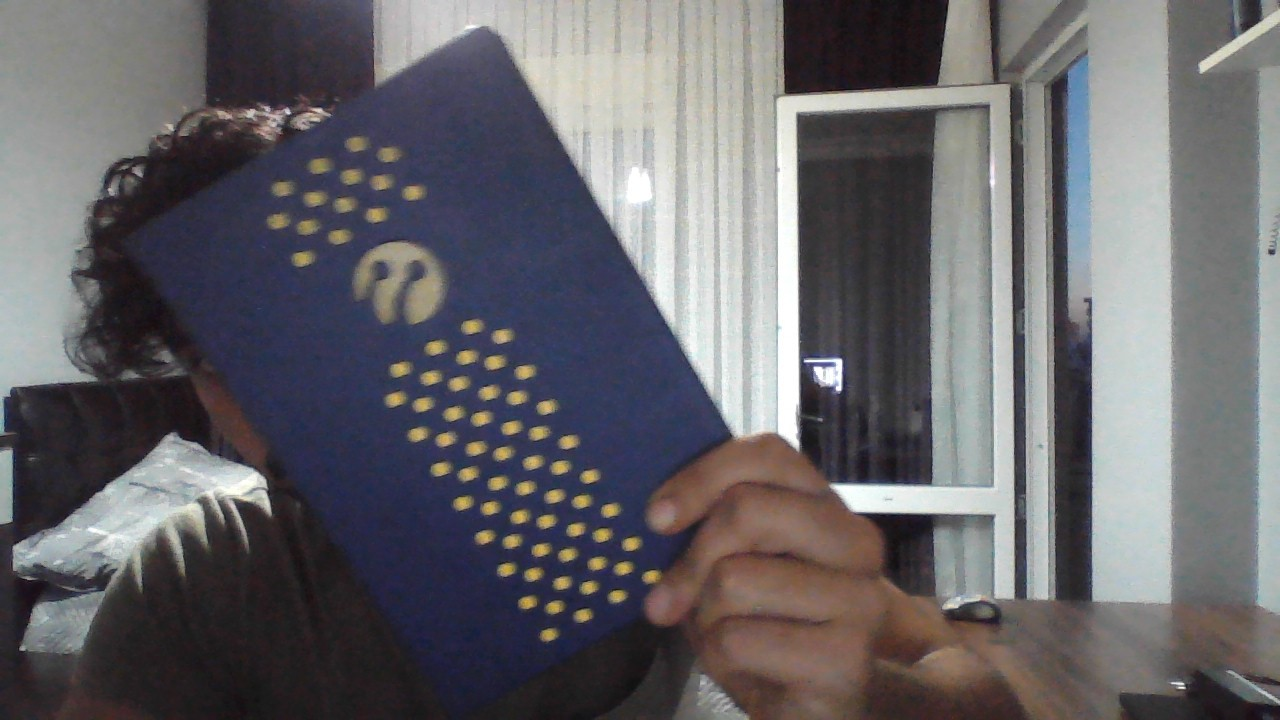turkcell: (344, 238, 447, 327)
